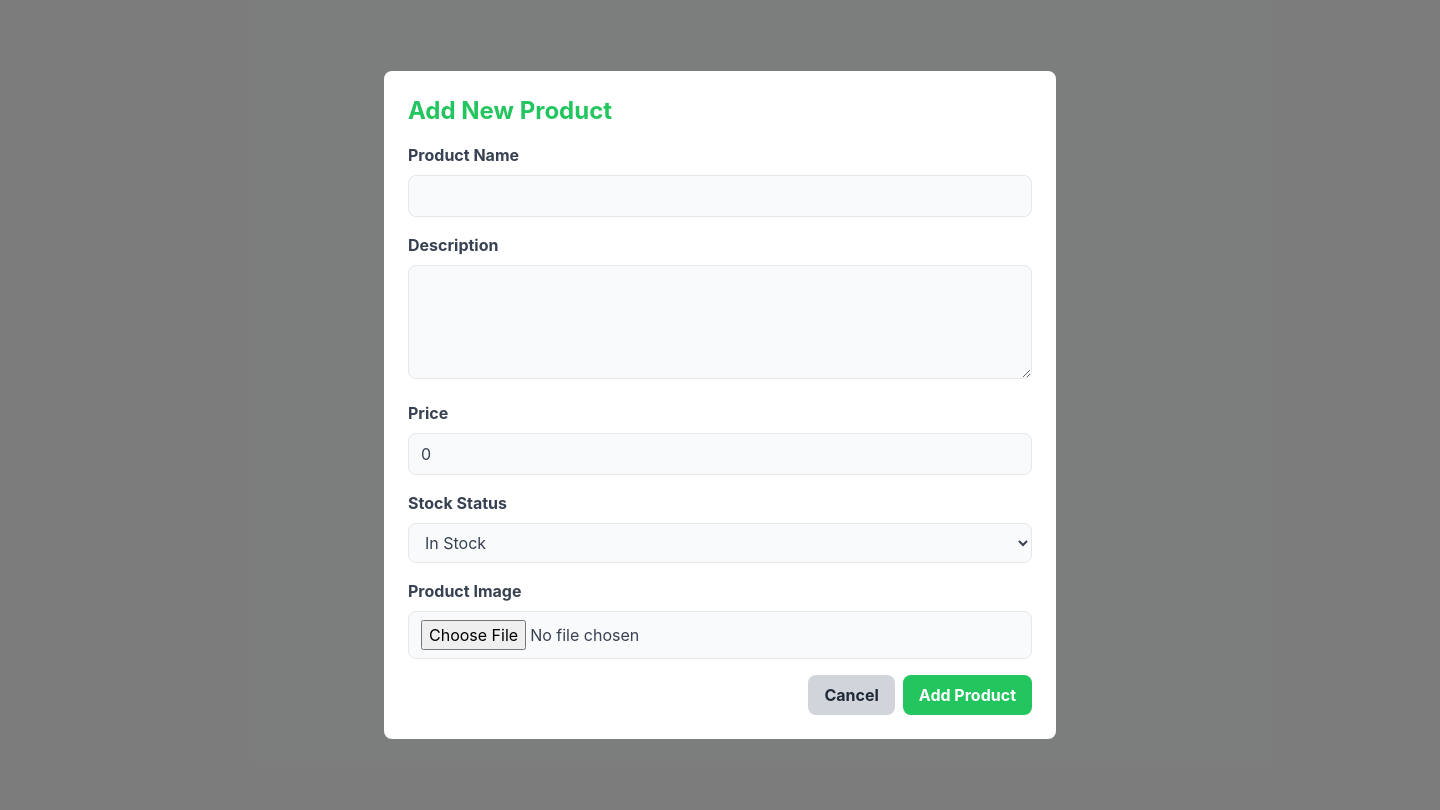
Test: AddEditProductForm › validates form fields
The width and height of the screenshot is (1440, 810).
Click the button "Add Product" at (967, 695), box [903,675,1032,715]
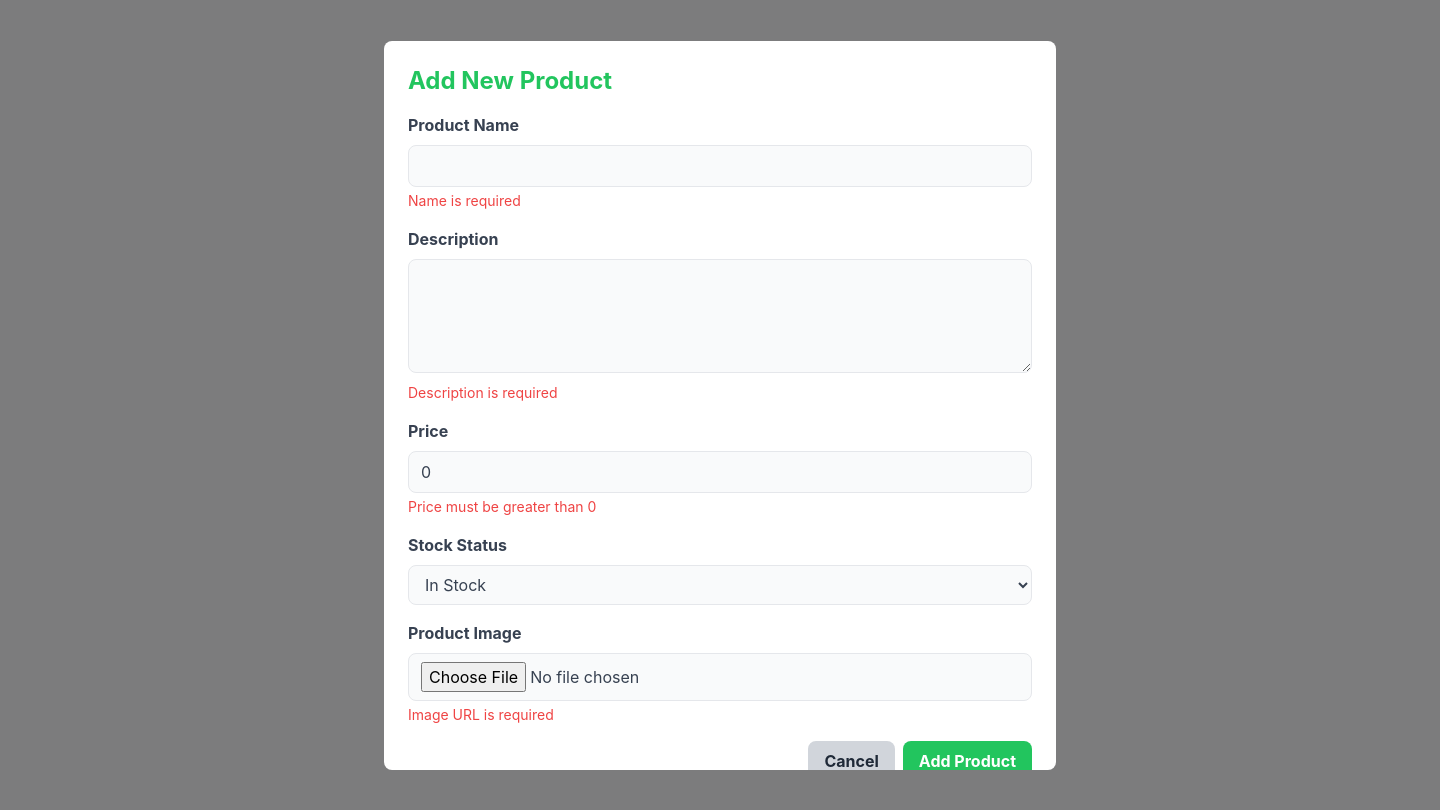
Check: the text "Name is required" is shown, box [408,192,521,208]
Check: the text "Description is required" is shown, box [408,384,558,400]
Check: the text "Price must be greater than 0" is shown, box [408,498,596,514]
